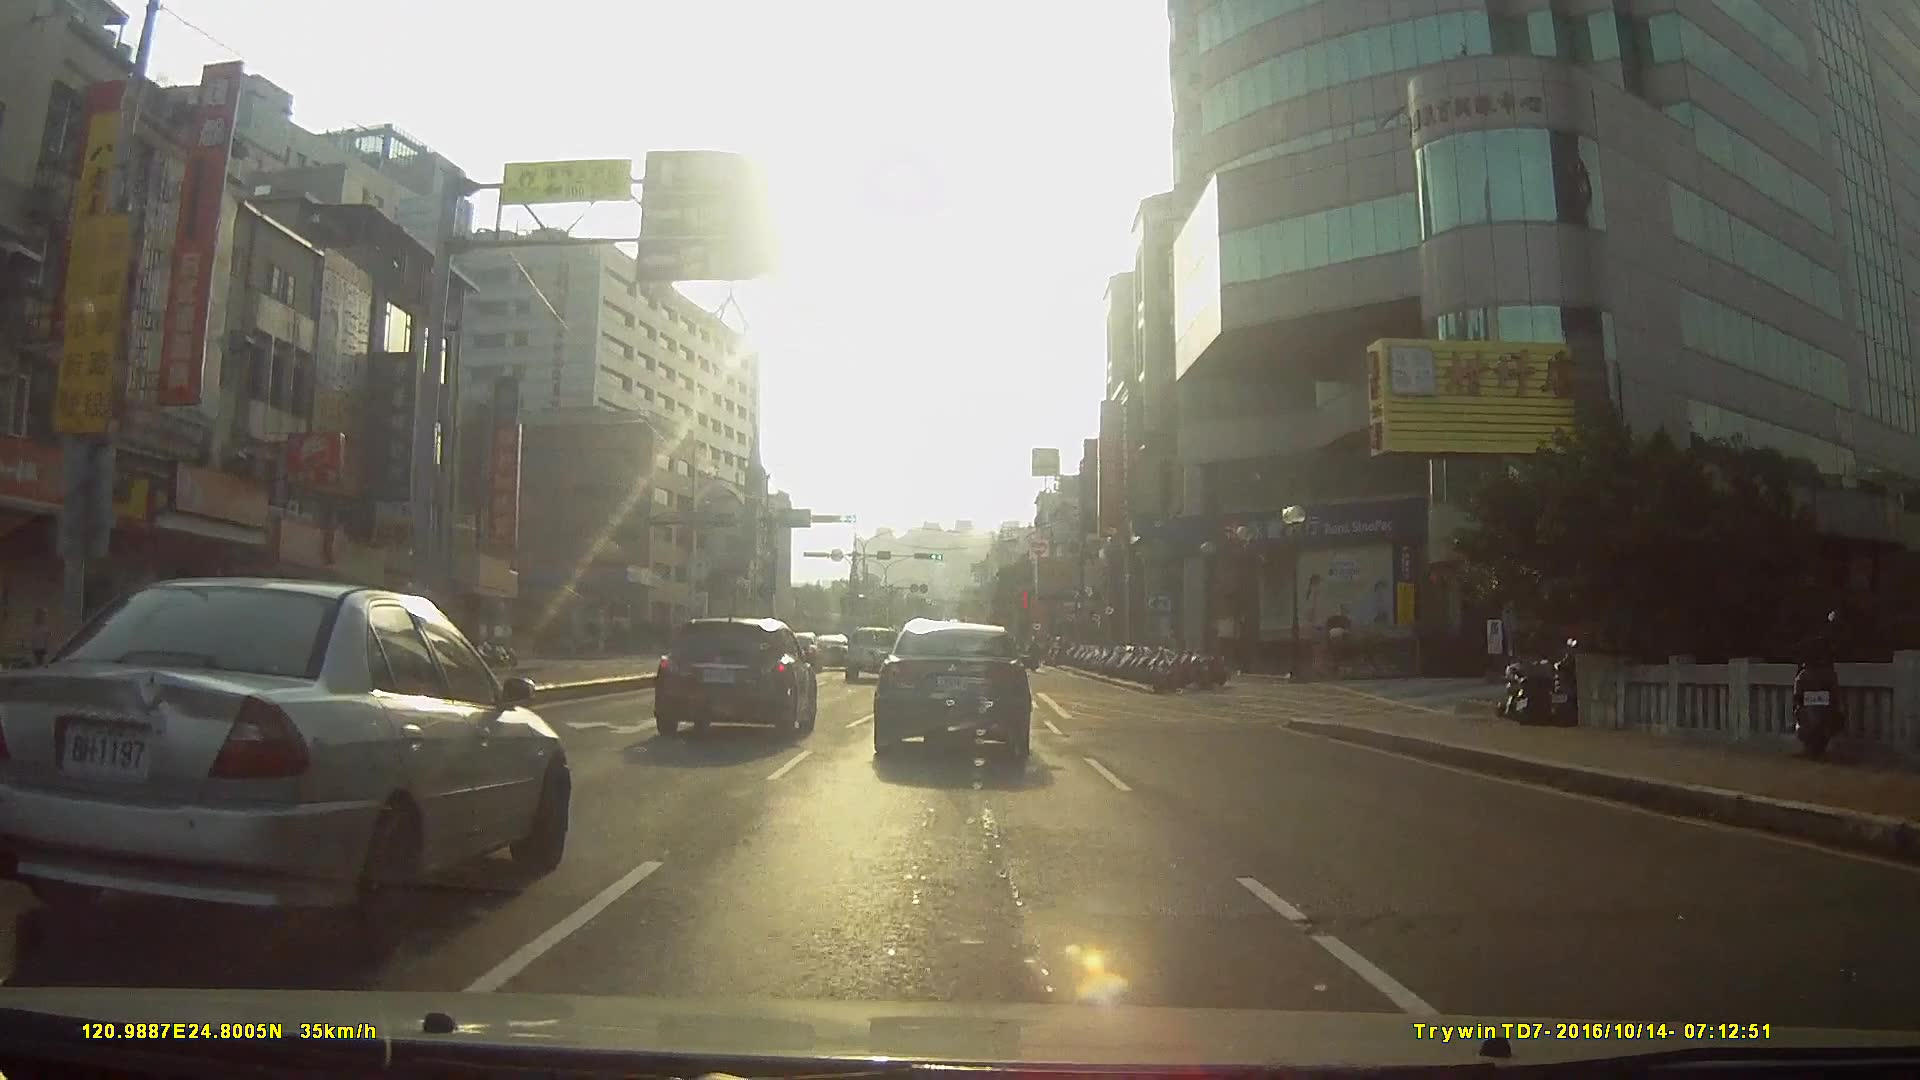vehicle: (0, 574, 567, 957), (872, 615, 1031, 761), (650, 609, 818, 738), (843, 622, 902, 680), (808, 632, 853, 669)
